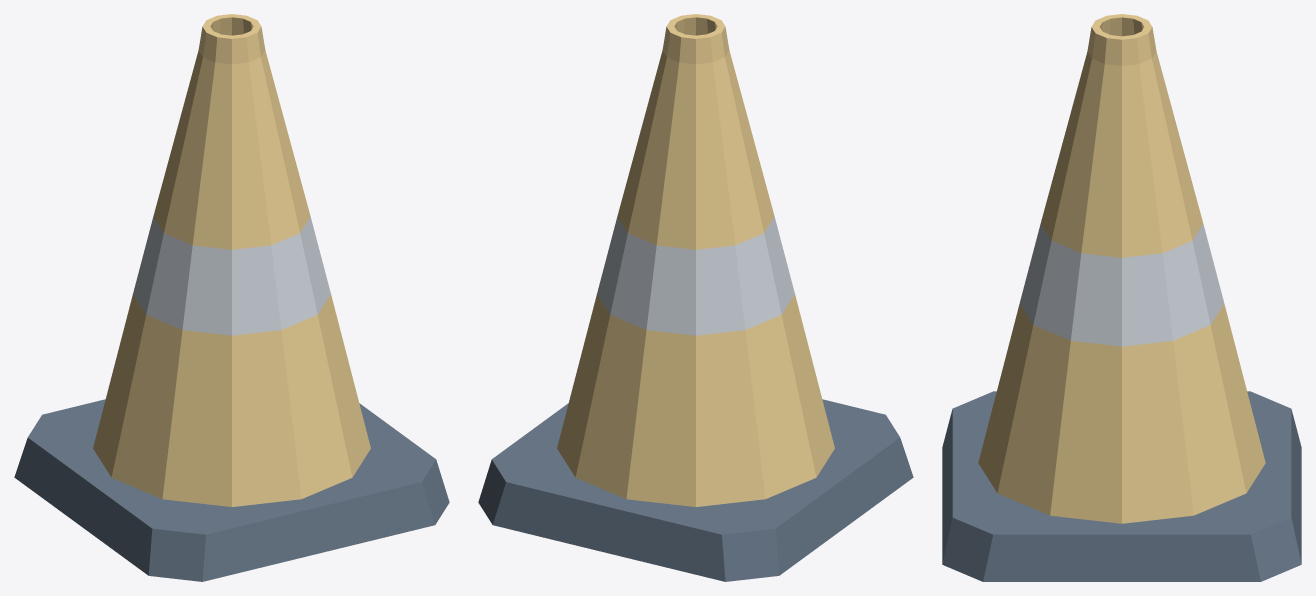
Rendered from traffic_cone.glb.
The picture shows the model from 3 angles, left to right: view 1: azimuth 30°, elevation 25°; view 2: azimuth 150°, elevation 25°; view 3: azimuth 270°, elevation 25°; orthographic projection. The views are drawn at different scales.
Parts seen in each view (by area): view 1: cone_lower, cone_base, cone_upper, cone_stripe, cone_tip_lip; view 2: cone_lower, cone_base, cone_upper, cone_stripe, cone_tip_lip; view 3: cone_lower, cone_base, cone_upper, cone_stripe, cone_tip_lip.
Boxes of the visible parts, box(x1,y1,x2,y2) form: cone_lower: box(93, 294, 370, 506); cone_base: box(14, 399, 449, 581); cone_upper: box(153, 50, 310, 249); cone_stripe: box(133, 217, 330, 335); cone_tip_lip: box(198, 14, 265, 64); cone_lower: box(557, 294, 834, 506); cone_base: box(478, 399, 913, 581); cone_upper: box(617, 50, 774, 249); cone_stripe: box(597, 217, 794, 335); cone_tip_lip: box(662, 14, 729, 64); cone_lower: box(978, 304, 1265, 523); cone_base: box(942, 391, 1301, 581); cone_upper: box(1040, 52, 1203, 257); cone_stripe: box(1019, 224, 1224, 346); cone_tip_lip: box(1087, 14, 1156, 65).
Size of the model in its own units: 0.53 by 0.78 by 0.53.
